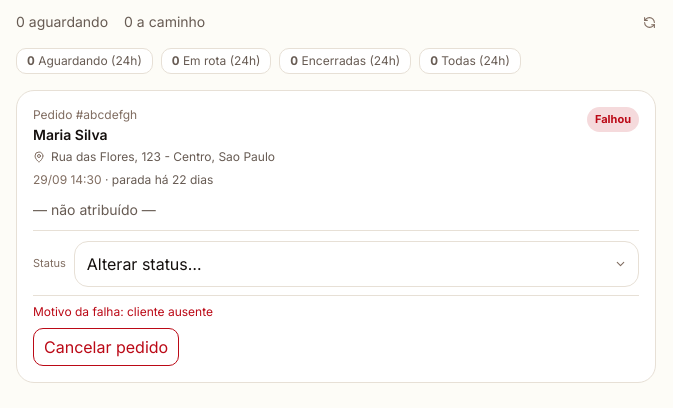
DeliveriesTab — card de entrega › cancelar pedido (bloco de falha) não dispara a abertura da comanda
Click the button "Cancelar pedido": click(106, 346) [33, 328, 179, 366]
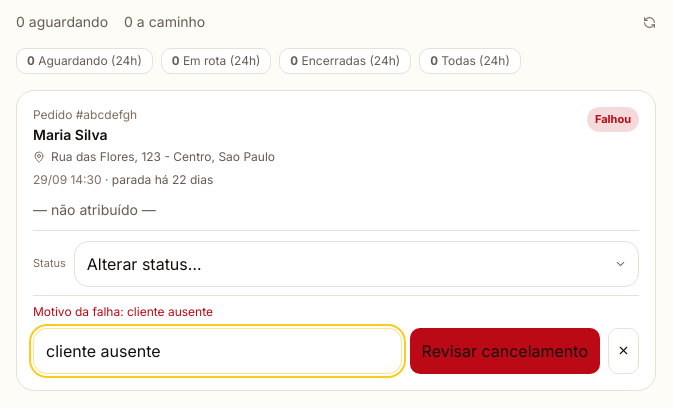
Now the field with placeholder "Motivo do cancelamento" is shown, box [33, 328, 402, 374]
